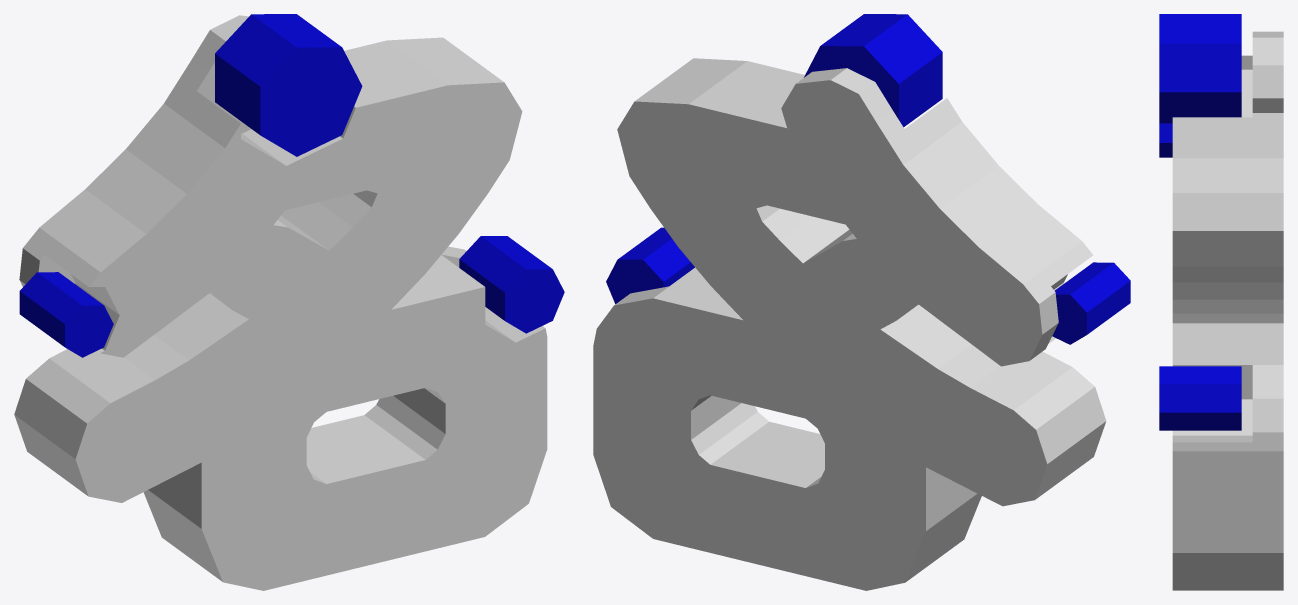
File: Ch_Lite_China_名_01.fbx
3 views of the same model, side by side, from view 1: azimuth 30°, elevation 25°; view 2: azimuth 150°, elevation 25°; view 3: azimuth 270°, elevation 25° (orthographic). The views are drawn at different scales.
Visible parts, largest first — view 1: sphere1; view 2: sphere1; view 3: sphere1.
Boxes of the visible parts, x1,y1,x2,y2 form: sphere1: [14, 14, 564, 590]; sphere1: [593, 14, 1130, 590]; sphere1: [1159, 14, 1283, 590].
Bounding box in the file's own units: 0.9406 × 0.976 × 0.2242.
